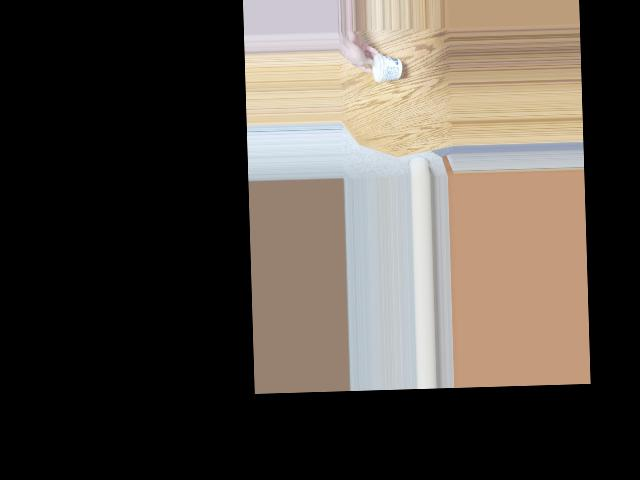cotage: (370, 50, 401, 81)
